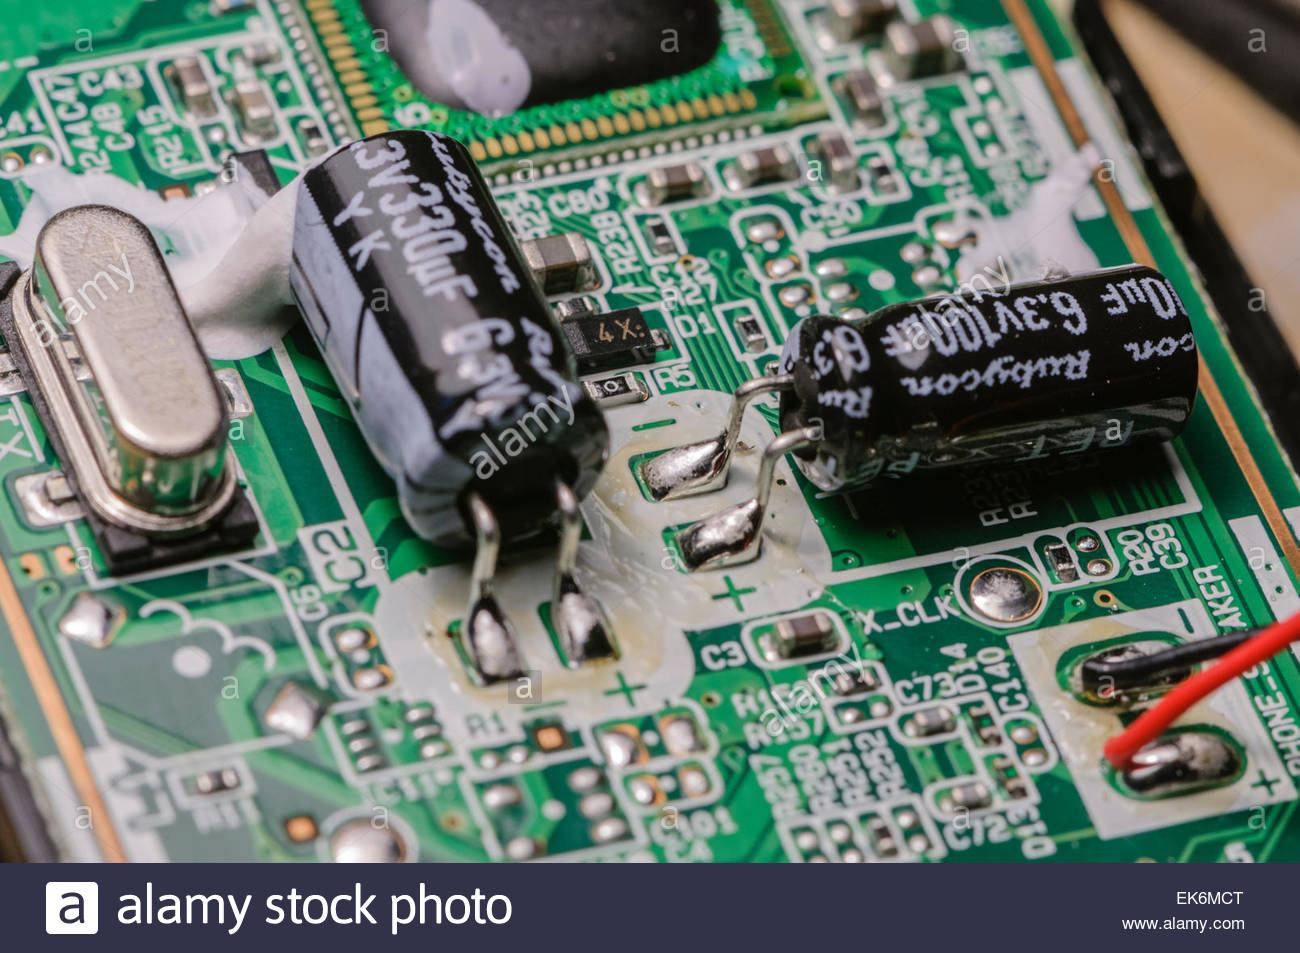capacitor: (236, 120, 663, 593), (734, 216, 1233, 548)
